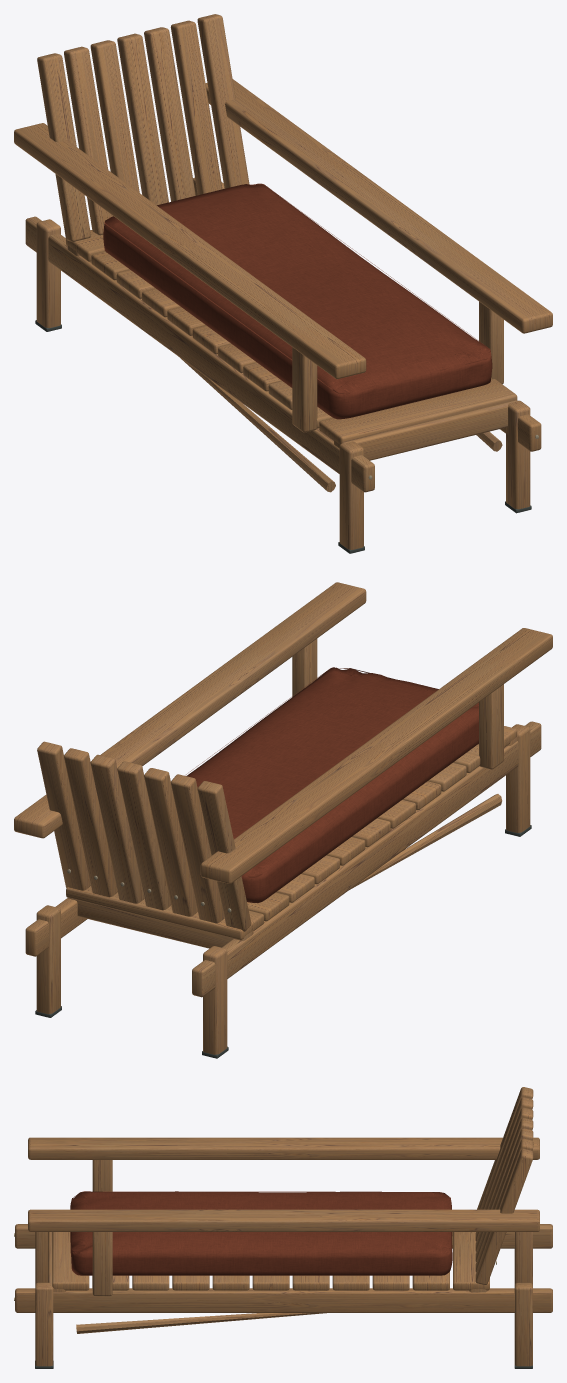
File: patio-chaise.glb
3 views of the same model, one above another, from view 1: azimuth 30°, elevation 25°; view 2: azimuth 150°, elevation 25°; view 3: azimuth 270°, elevation 25° (orthographic). The views are drawn at different scales.
Visible parts, largest first — view 1: catalog_surface_UVMap, catalog_surface_RealismUV; view 2: catalog_surface_UVMap, catalog_surface_RealismUV; view 3: catalog_surface_UVMap, catalog_surface_RealismUV.
Part boxes in pixels (bbox=[...]): catalog_surface_UVMap: bbox=[14, 14, 552, 549]; catalog_surface_RealismUV: bbox=[35, 183, 538, 553]; catalog_surface_UVMap: bbox=[14, 582, 552, 1054]; catalog_surface_RealismUV: bbox=[35, 667, 531, 1058]; catalog_surface_UVMap: bbox=[15, 1087, 552, 1366]; catalog_surface_RealismUV: bbox=[14, 1191, 532, 1368].
Size of the model in its own units: 0.72 by 0.85 by 1.95.
5 materials, 2 textured.
